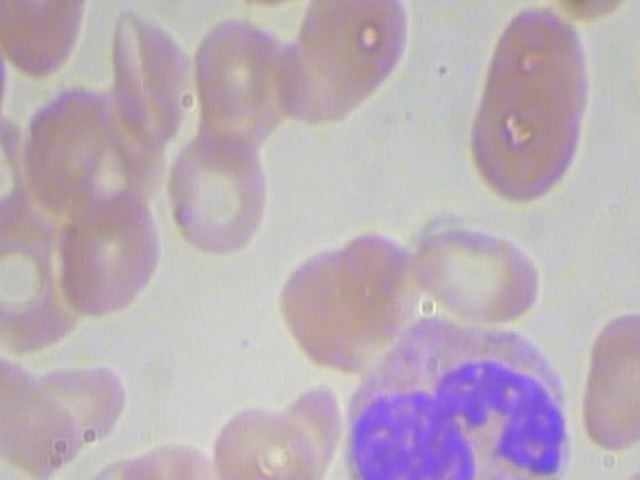RBC: (462, 68, 600, 203), (471, 0, 609, 124), (269, 242, 389, 376), (413, 218, 550, 331), (164, 130, 272, 269), (54, 186, 162, 325), (288, 0, 425, 101), (178, 12, 293, 132), (0, 347, 82, 480), (573, 309, 640, 460), (208, 396, 324, 480), (0, 0, 95, 80)
WBC: (335, 315, 574, 480)
